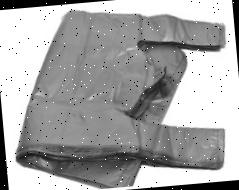plastic: (2, 0, 238, 190)
